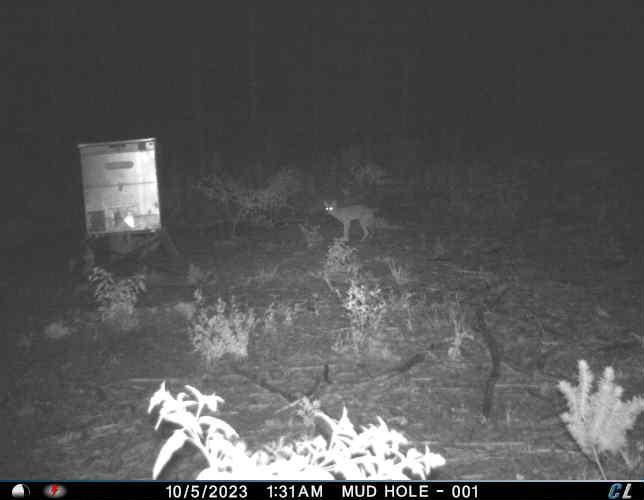Coyote: (320, 198, 378, 242)
